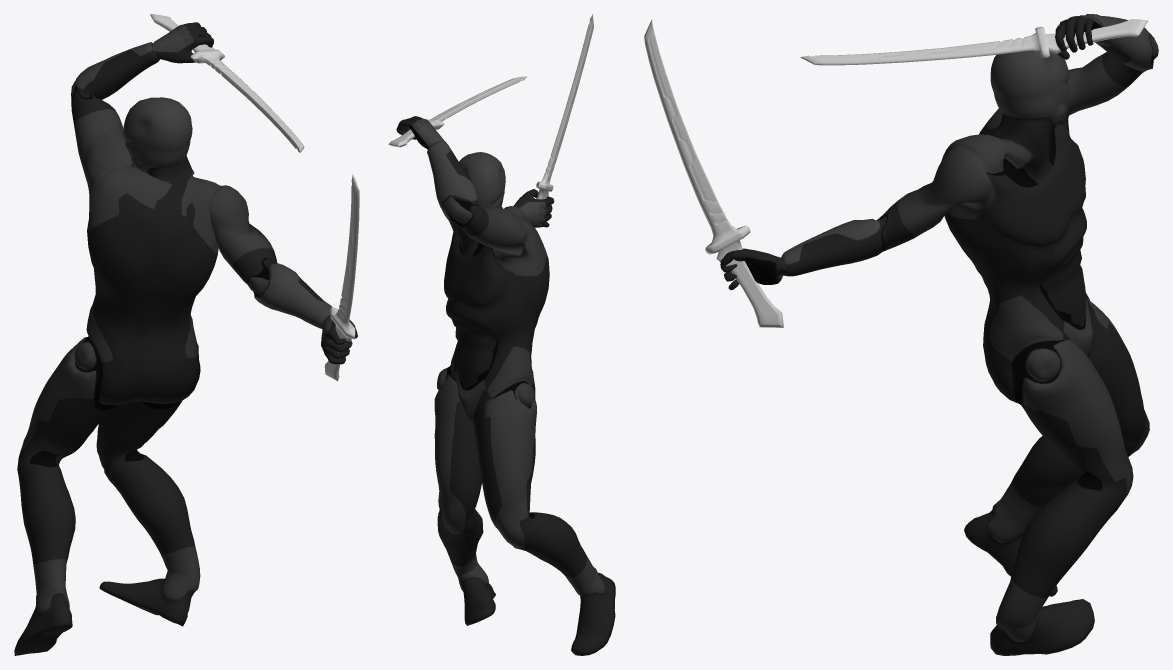
3 views of the same model, side by side, from view 1: azimuth 30°, elevation 25°; view 2: azimuth 150°, elevation 25°; view 3: azimuth 270°, elevation 25° (orthographic). The views are drawn at different scales.
Parts seen in each view (by area): view 1: Cyborg_Ninja_Killer, Sword_l001, Sword_l; view 2: Cyborg_Ninja_Killer, Sword_l001, Sword_l; view 3: Cyborg_Ninja_Killer, Sword_l001, Sword_l.
Part boxes in pixels (<box>): Cyborg_Ninja_Killer: <box>14,22,357,655</box>; Sword_l001: <box>324,175,359,381</box>; Sword_l: <box>150,14,304,152</box>; Cyborg_Ninja_Killer: <box>396,116,615,655</box>; Sword_l001: <box>535,14,593,227</box>; Sword_l: <box>388,76,527,147</box>; Cyborg_Ninja_Killer: <box>720,14,1158,655</box>; Sword_l001: <box>644,19,783,327</box>; Sword_l: <box>800,19,1147,65</box>.
Bounding box in the file's own units: 76.02 × 190 × 131.
